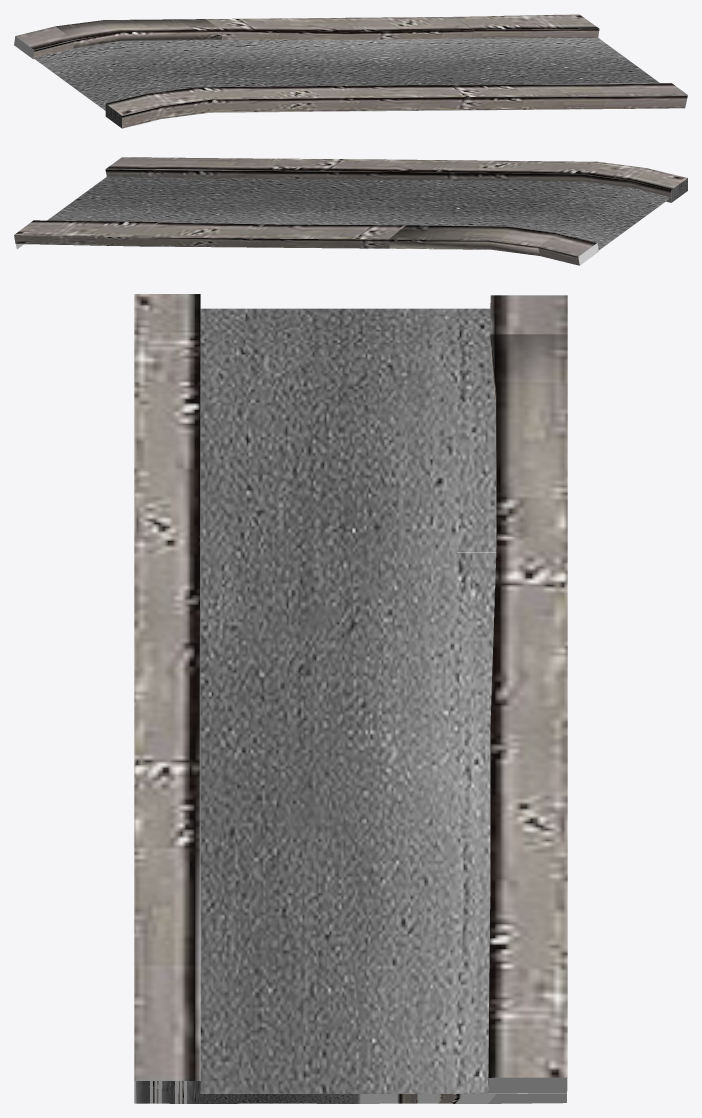
The model's file is callempinada.fbx.
The picture shows the model from 3 angles, top to bottom: view 1: azimuth 30°, elevation 25°; view 2: azimuth 150°, elevation 25°; view 3: azimuth 270°, elevation 25°; orthographic projection. The views are drawn at different scales.
Visible parts, largest first — view 1: Plane.004; view 2: Plane.004; view 3: Plane.004.
Boxes of the visible parts, <box> form: Plane.004: <box>14,14,687,128</box>; Plane.004: <box>14,157,687,265</box>; Plane.004: <box>134,294,567,1103</box>.
Bounding box in the file's own units: 882 × 194 × 292.
